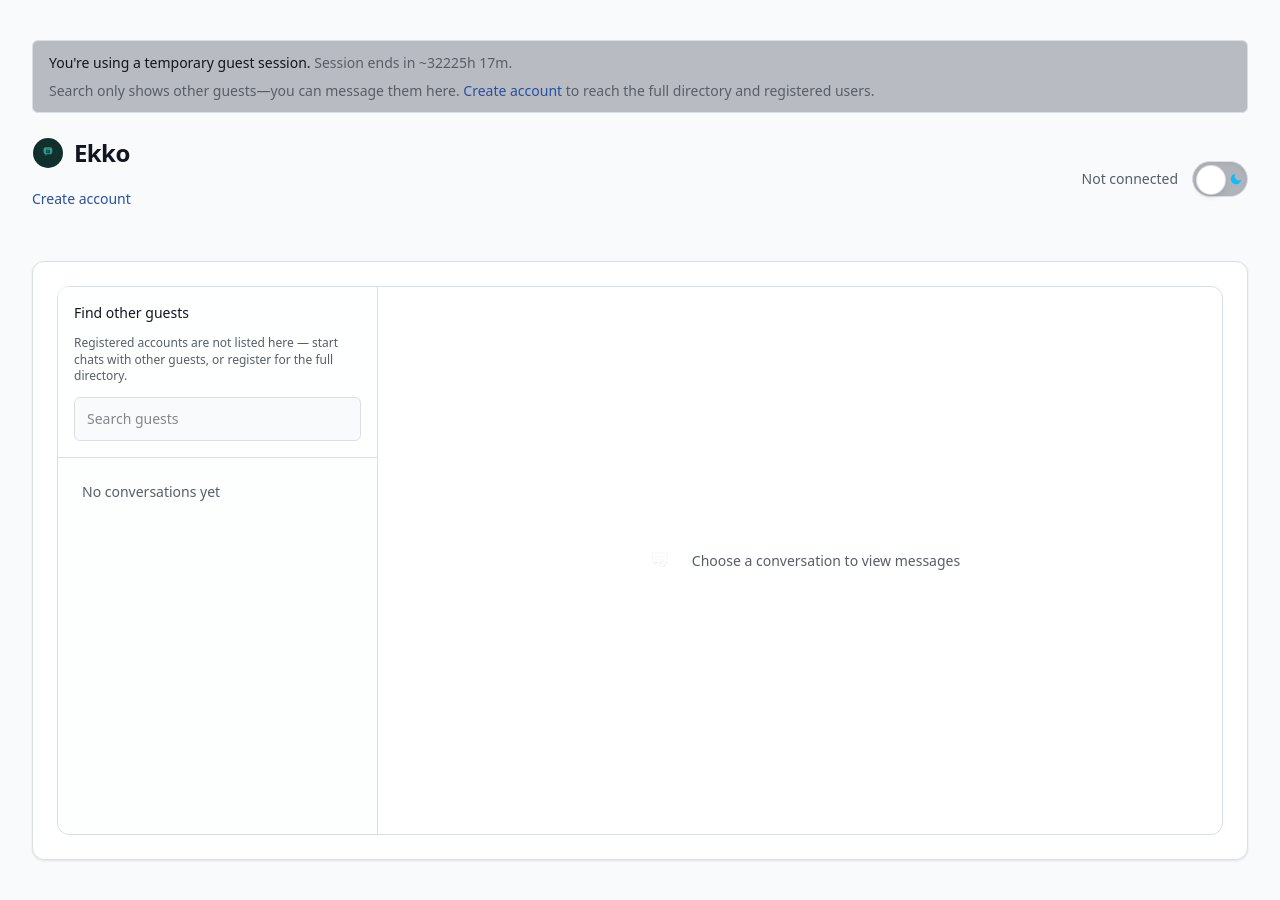
Test case: Guest → Create account (register stays open; no bounce to home) › from HomePage (banner + header links): register screen remains after navigation
Click the link "Create account" below "You're using a temporary guest session.".
click(513, 90)  # box [463,81,562,100]
(page scrolled)
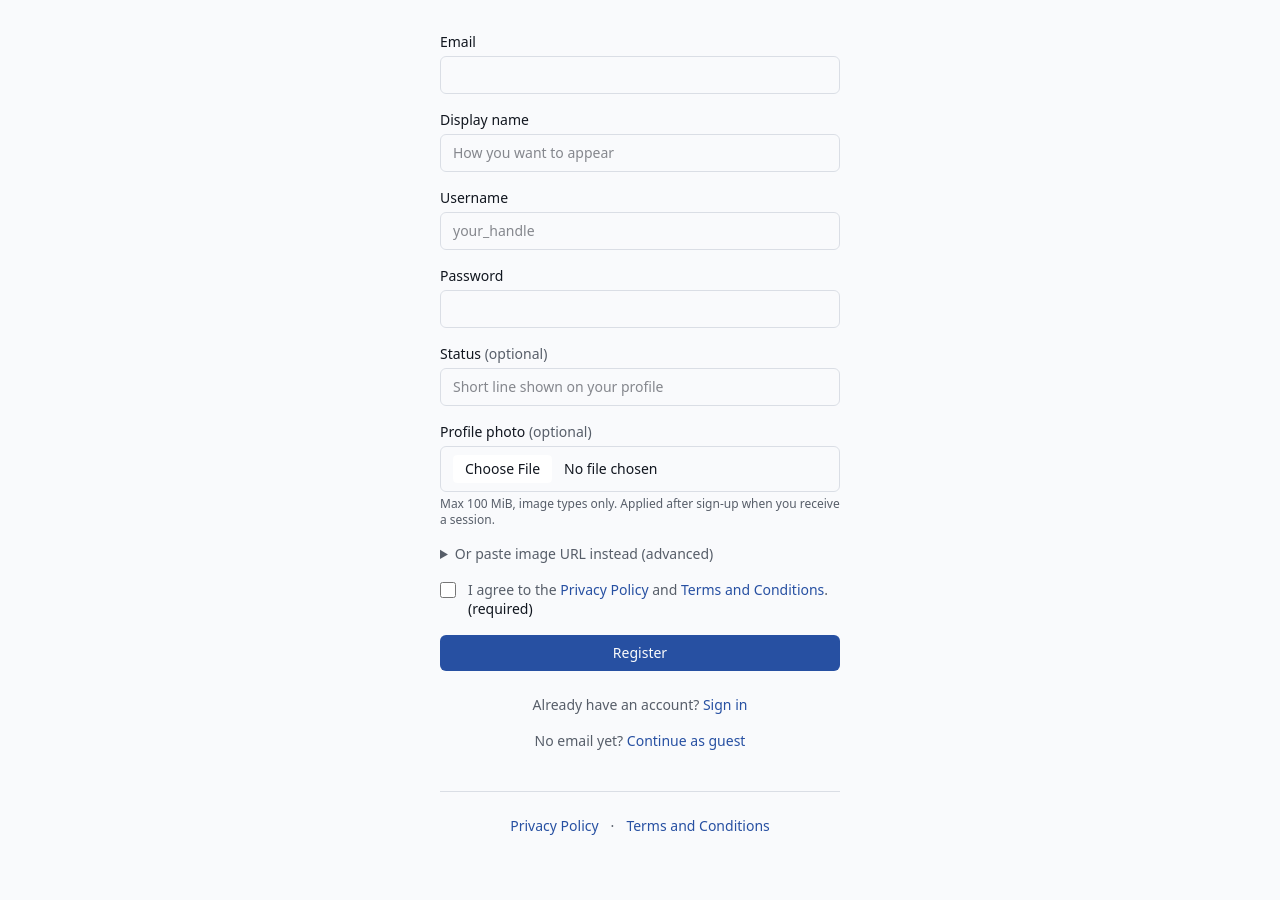
Expected: the button "Register" is shown, [440,634,840,670]
Now the field labelled "Email" is shown, box [440,56,840,94]
Now the element with test id "home-page-shell" is gone
